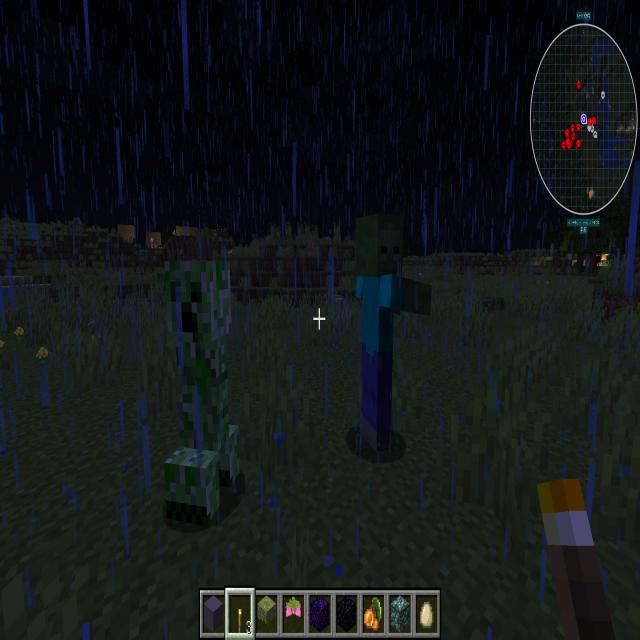Creeper: (153, 251, 243, 532)
Zombie: (346, 209, 438, 469)
pig: (306, 238, 316, 260), (332, 292, 344, 308)
